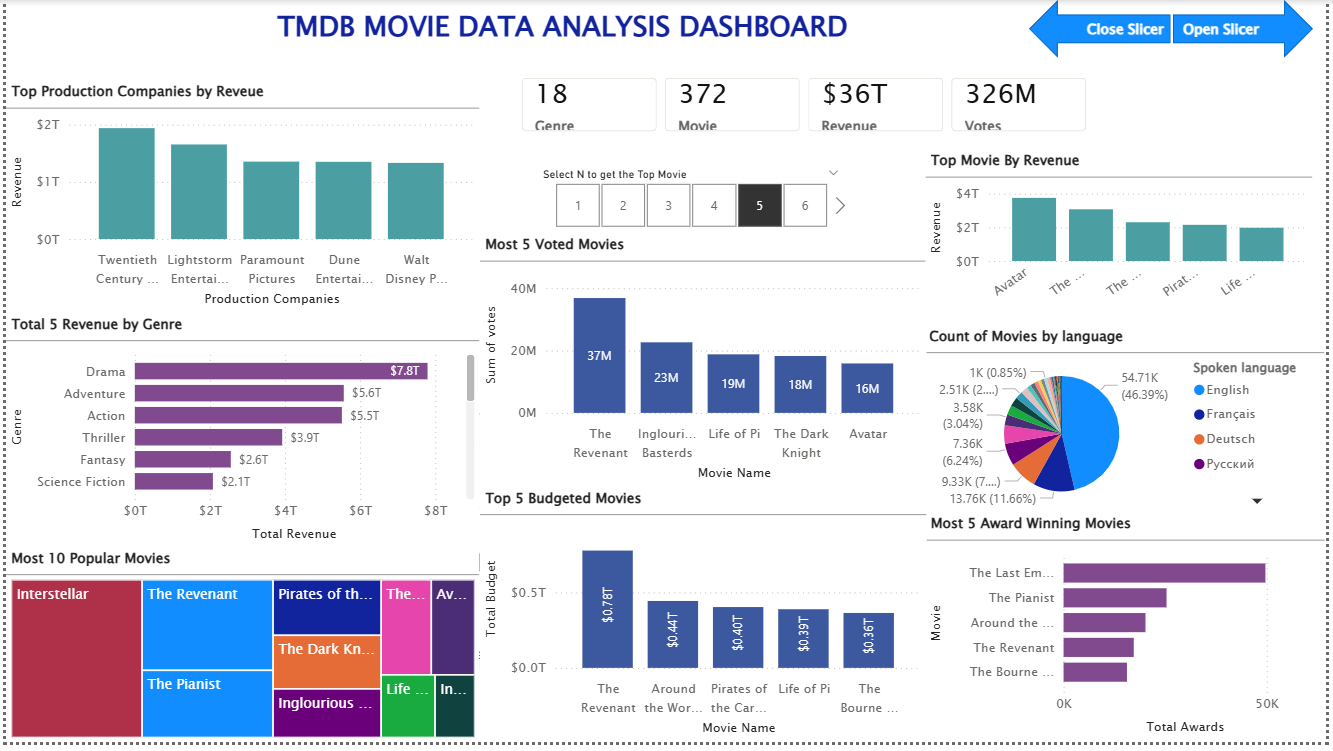

The dashboard page shown, as its layout file describes it:
{"tool":"powerbi","page":{"name":"TMDB Dashboard","canvas":[1280,720],"ordinal":0},"visuals":[{"type":"slicer","fields":{"Values":["Merge1.oscar.Year"]},"box":[1087.9,0,187.8,57.8],"z":0},{"type":"slicer","fields":{"Values":["Merge1.Genre"]},"box":[1087.9,57.8,187.8,70.8],"z":1000},{"type":"columnChart","title":"Top Production Companies by Total Revenue","fields":{"Y":["Merge1.Total Revenue"],"Category":["Merge1.prd countries","Merge1.oscar.Film"]},"box":[162.2,379.7,459.9,274.5],"z":2000},{"type":"card","fields":{"Values":["Count(Merge1.Genre)"]},"box":[465.2,28.9,130,99.7],"z":3000},{"type":"card","fields":{"Values":["Count(Merge1.oscar.Film)"]},"box":[595.2,28.9,124.2,99.7],"z":4000},{"type":"card","fields":{"Values":["Merge1.Total Revenue"]},"box":[718.9,29.1,173.3,98.8],"z":5000},{"type":"pieChart","title":"Count of Movies by language","fields":{"Category":["Merge1.spoken language"],"Y":["CountNonNull(Merge1.oscar.Film)"]},"box":[892.8,314.9,387.2,183.5],"z":6000},{"type":"card","fields":{"Values":["Merge1.Sum of votes"]},"box":[893.8,30.8,160.3,98.8],"z":7000},{"type":"barChart","fields":{"Category":["Merge1.Genre","Merge1.title","Merge1.oscar.Award"],"Y":["Merge1.Total Revenue"]},"box":[0,303.8,459.4,227.5],"z":8000},{"type":"clusteredBarChart","title":"Most Award Winning Movies","fields":{"Category":["Merge1.oscar.Film"],"Y":["Merge1.Total Awards"]},"box":[892.8,498.4,387.2,221],"z":9000},{"type":"treemap","title":"Most Popular Movies","fields":{"Group":["Merge1.oscar.Film"],"Values":["Merge1.Total Poularity"]},"box":[0,531.4,459.4,188.6],"z":10000},{"type":"columnChart","title":"Most Voted Movies","fields":{"Category":["Merge1.oscar.Film"],"Y":["Merge1.Sum of votes"]},"box":[459.4,226.8,433.4,245.6],"z":11000},{"type":"columnChart","title":"Top Budgeted Movies","fields":{"Category":["Merge1.oscar.Film"],"Y":["Merge1.Total Budget"]},"box":[459.4,472.4,433.4,247],"z":12000},{"type":"columnChart","title":"Top Movie By Revenue","fields":{"Y":["Merge1.Top 10 Movies"],"Category":["Merge1.oscar.Film"]},"box":[892.8,128.6,375.6,174.8],"z":13000},{"type":"slicer","fields":{"Values":["Parameter_TOP N Movies.Parameter_TOP N Movies"]},"box":[523,131.5,312.1,69.3],"z":14000},{"type":"textbox","box":[0,0,1080.6,28.9],"z":15000},{"type":"columnChart","title":"Top Production Companies by Reveue","fields":{"Category":["Merge1.production company name","Merge1.oscar.Film"],"Y":["Merge1.Top N Values"]},"box":[0,78,459.4,225.4],"z":16000}]}

Visuals, with their boxes in screenshot pixels (x1, y1, x2, y2), scaled from the page's 1280x720 canvas onto the 1333x751 screenshot:
slicer - Merge1.oscar.Year: (left=1133, top=0, right=1329, bottom=60)
slicer - Merge1.Genre: (left=1133, top=60, right=1329, bottom=134)
"Top Production Companies by Total Revenue" columnChart: (left=169, top=396, right=648, bottom=682)
card - Count(Merge1.Genre): (left=484, top=30, right=620, bottom=134)
card - Count(Merge1.oscar.Film): (left=620, top=30, right=749, bottom=134)
card - Merge1.Total Revenue: (left=749, top=30, right=929, bottom=133)
"Count of Movies by language" pieChart: (left=930, top=328, right=1332, bottom=520)
card - Merge1.Sum of votes: (left=931, top=32, right=1098, bottom=135)
barChart - Merge1.Genre x Merge1.title: (left=0, top=317, right=478, bottom=554)
"Most Award Winning Movies" clusteredBarChart: (left=930, top=520, right=1332, bottom=750)
"Most Popular Movies" treemap: (left=0, top=554, right=478, bottom=750)
"Most Voted Movies" columnChart: (left=478, top=237, right=930, bottom=493)
"Top Budgeted Movies" columnChart: (left=478, top=493, right=930, bottom=750)
"Top Movie By Revenue" columnChart: (left=930, top=134, right=1321, bottom=316)
slicer - Parameter_TOP N Movies.Parameter_TOP N Movies: (left=545, top=137, right=870, bottom=209)
textbox: (left=0, top=0, right=1125, bottom=30)
"Top Production Companies by Reveue" columnChart: (left=0, top=81, right=478, bottom=316)
